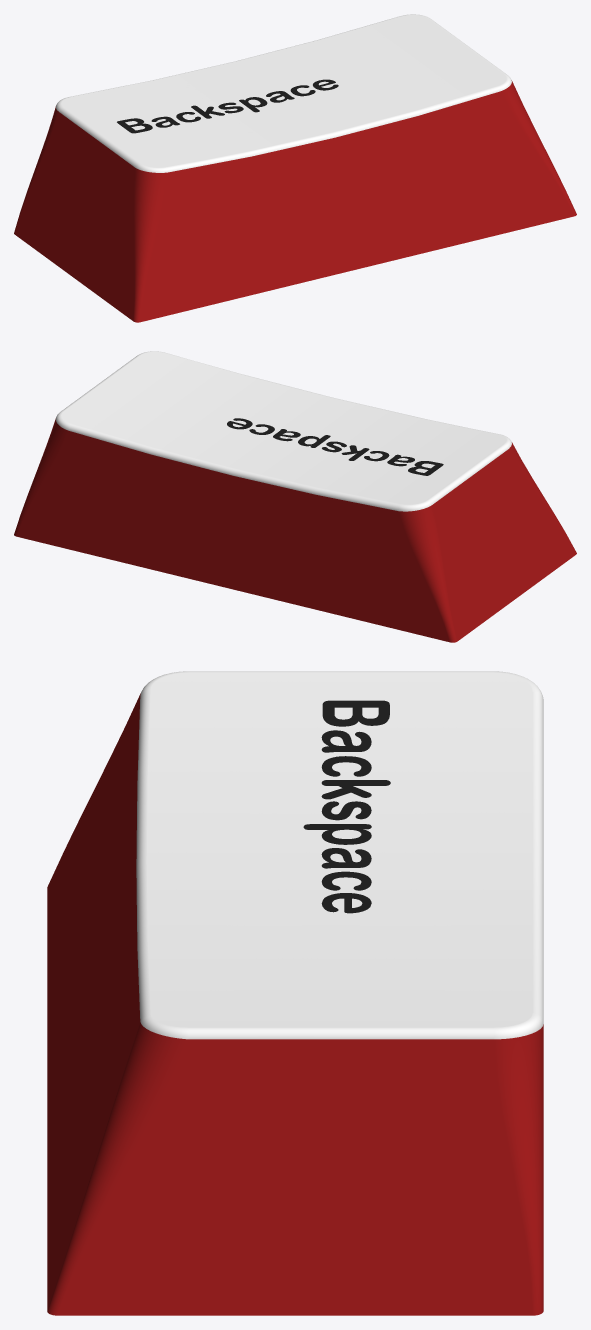
Rendered from Backspace Text 200.fbx.
The picture shows the model from 3 angles, top to bottom: view 1: azimuth 30°, elevation 25°; view 2: azimuth 150°, elevation 25°; view 3: azimuth 270°, elevation 25°; orthographic projection. The views are drawn at different scales.
Visible parts, largest first — view 1: Body1; view 2: Body1; view 3: Body1.
Boxes of the visible parts, left/top/right/bottom form: Body1: left=14, top=14, right=576, bottom=322; Body1: left=14, top=351, right=576, bottom=642; Body1: left=47, top=671, right=543, bottom=1315.
Bounding box in the file's own units: 37.08 × 9.98 × 18.
